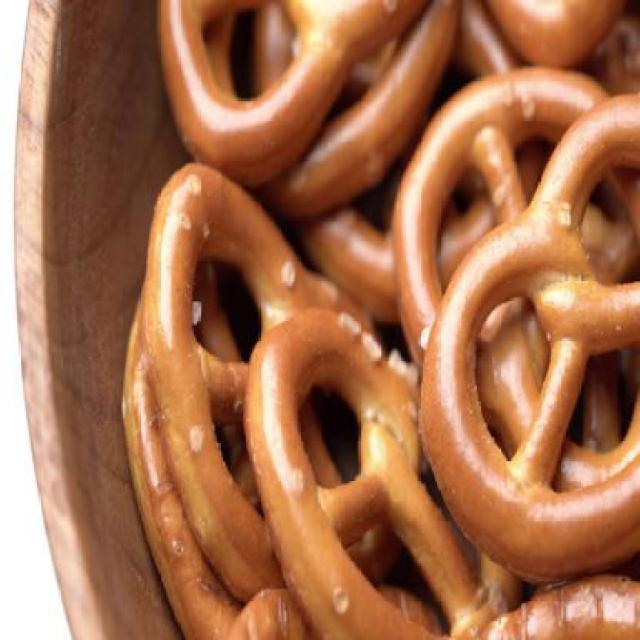Salatini packaged: (118, 16, 640, 630)
